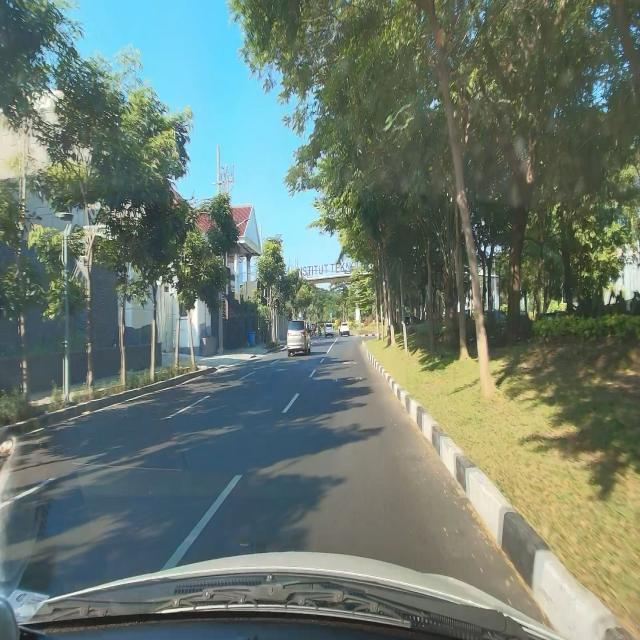car: (286, 318, 312, 357)
